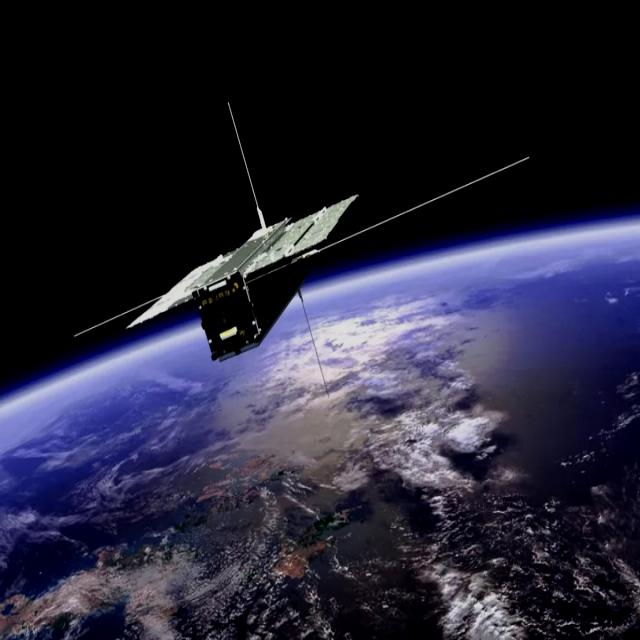satellite: (76, 155, 422, 374)
